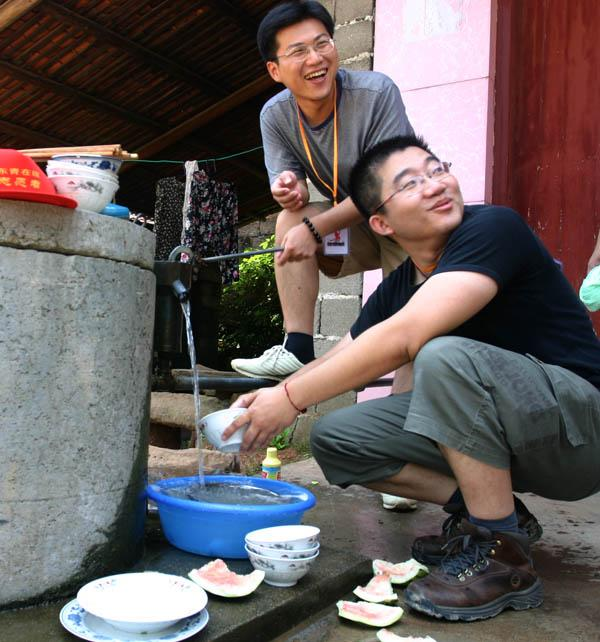person: (224, 137, 600, 619)
